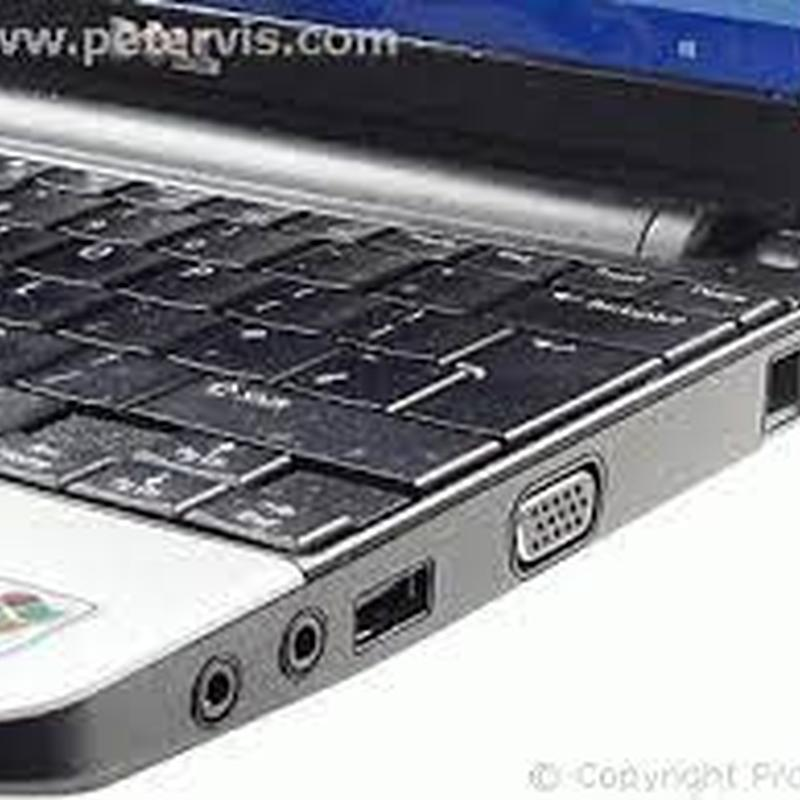AUDIO_INPUT: (259, 598, 346, 693)
AUDIO_OUTPUT: (171, 640, 247, 733)
USB: (337, 547, 446, 652)
VGA: (506, 453, 611, 567)
